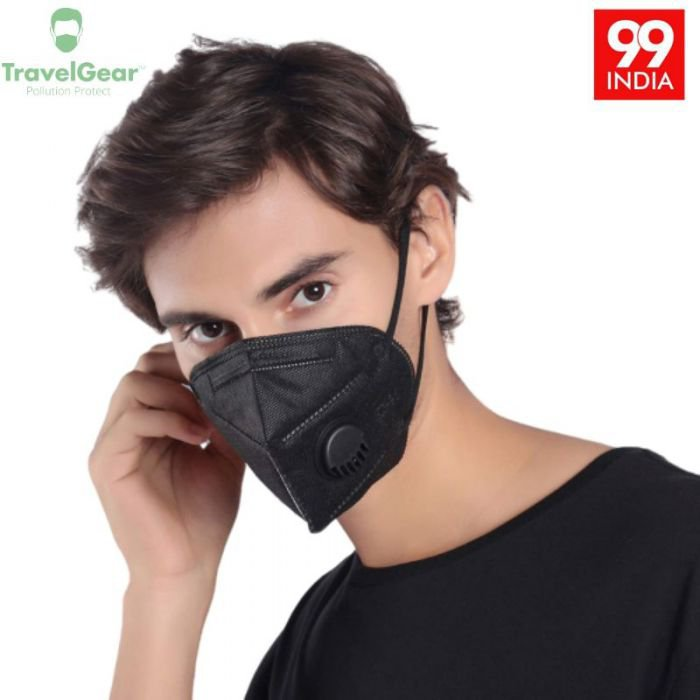mask: (69, 40, 551, 522)
